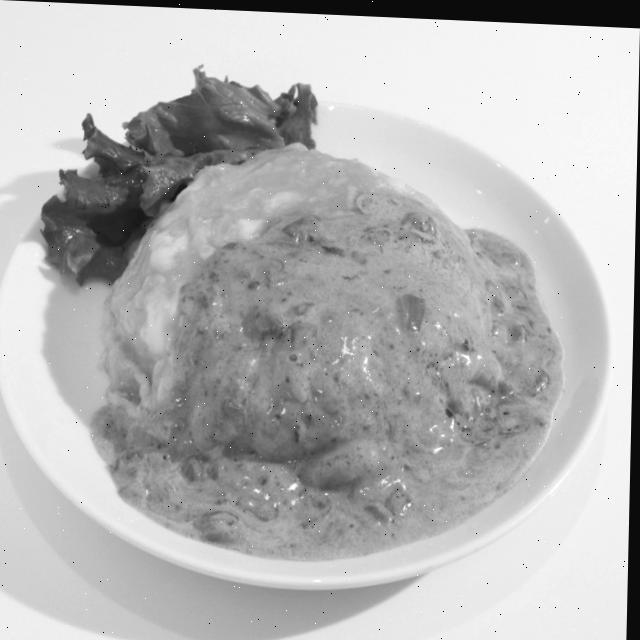鸡蛋料理: (79, 92, 576, 577)
